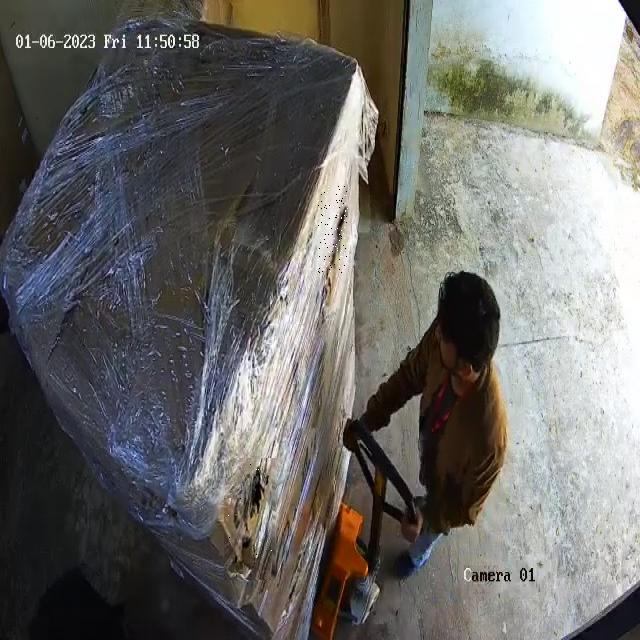leakage: (225, 458, 273, 579), (318, 186, 348, 273)
